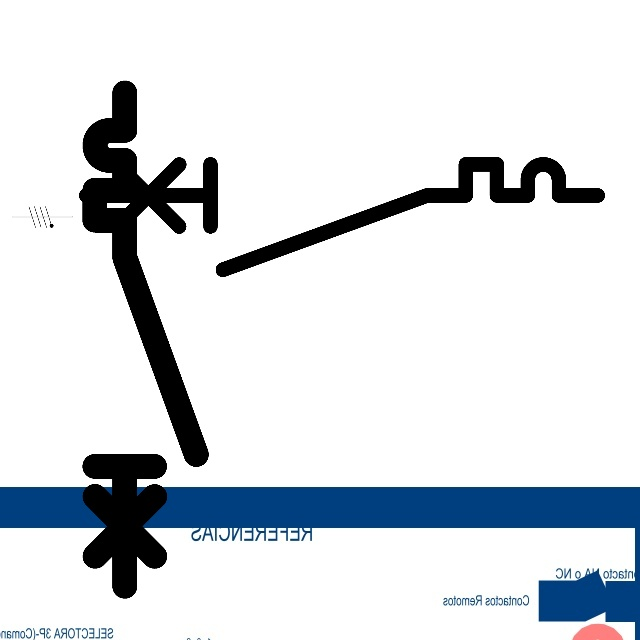interruptor_termomagnetico: (72, 151, 610, 282), (82, 80, 209, 598)
